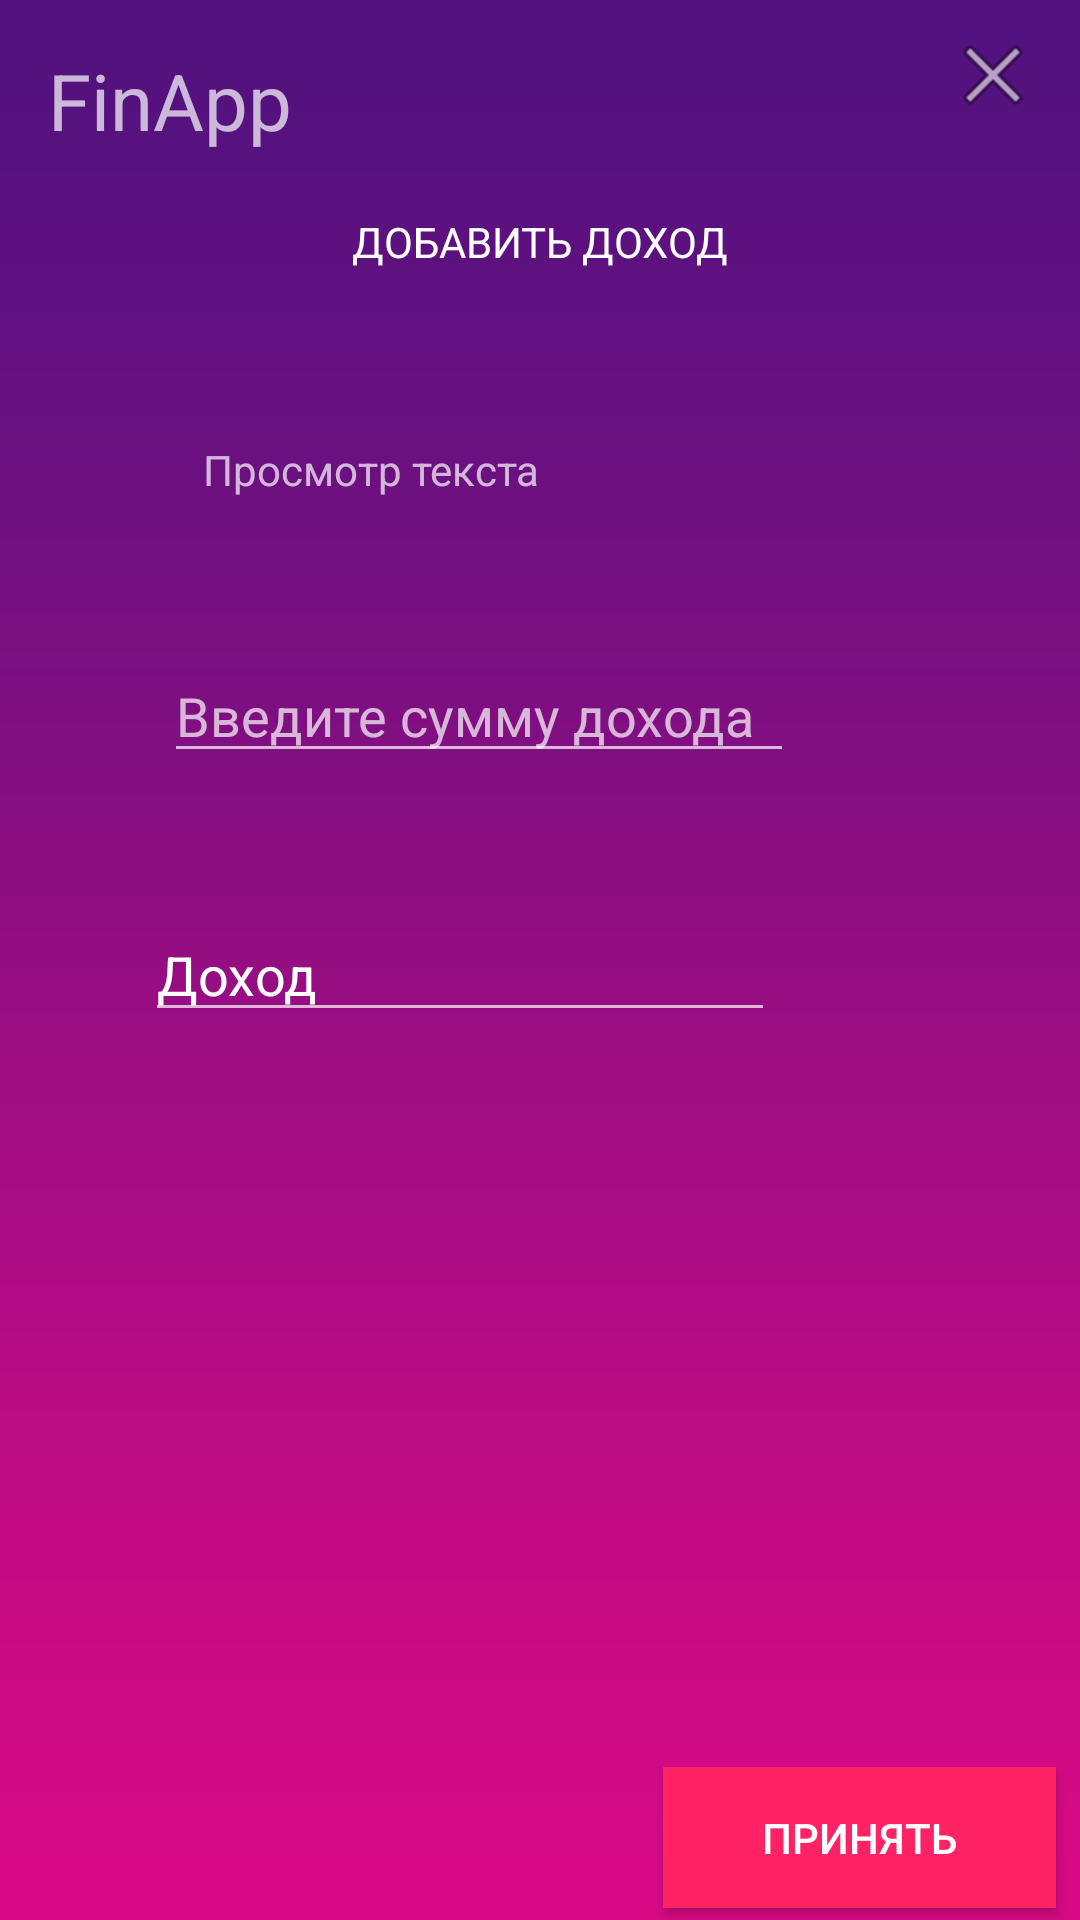

Icon bounding boxes for this 1080*1920 phone screenshot, format (x1, y1, x2, y2):
закрыть: (963, 45, 1023, 105)
